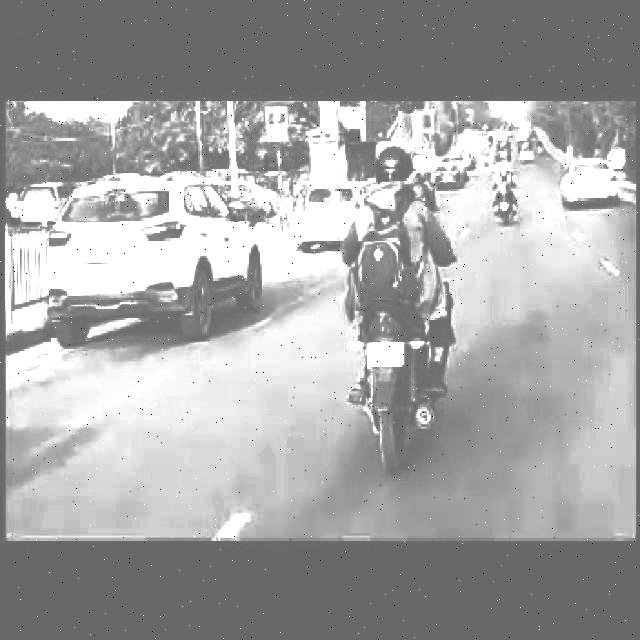Bike: (335, 150, 468, 475), (482, 153, 530, 220)
Car: (47, 167, 273, 367), (298, 176, 366, 256), (556, 145, 622, 225)
